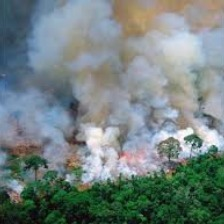incendio: (1, 74, 220, 171)
